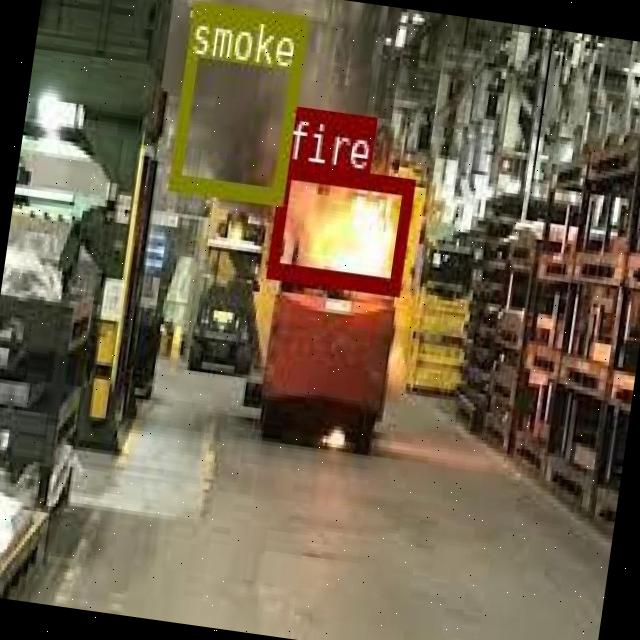fire: (266, 158, 414, 292)
smoke: (166, 0, 306, 201)
